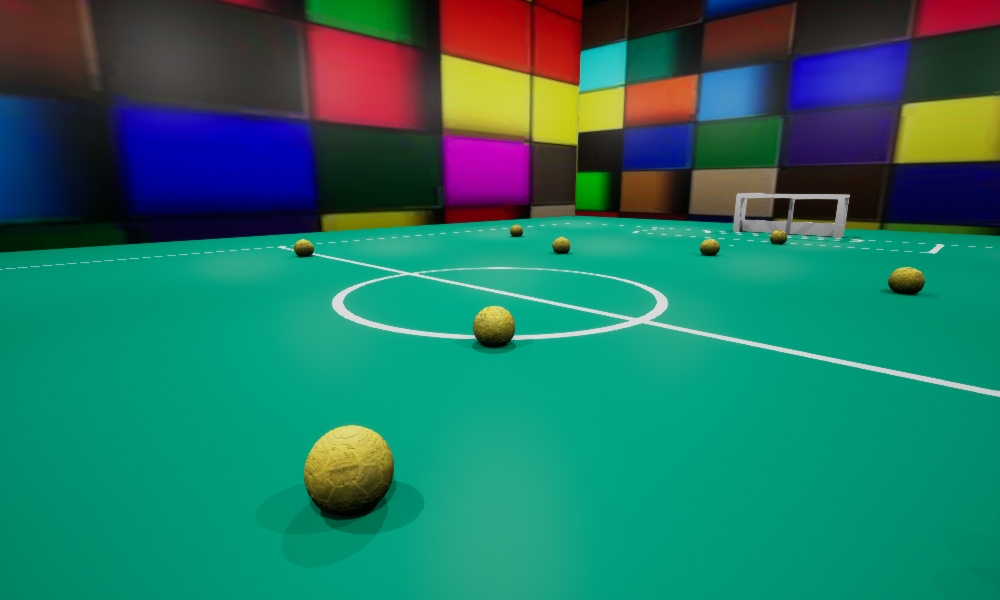b: (304, 425, 393, 515), (473, 306, 514, 346), (888, 267, 924, 292), (294, 239, 313, 256), (700, 239, 719, 255), (552, 237, 569, 253), (770, 230, 786, 243), (510, 224, 522, 235)
g: (733, 193, 849, 237)
